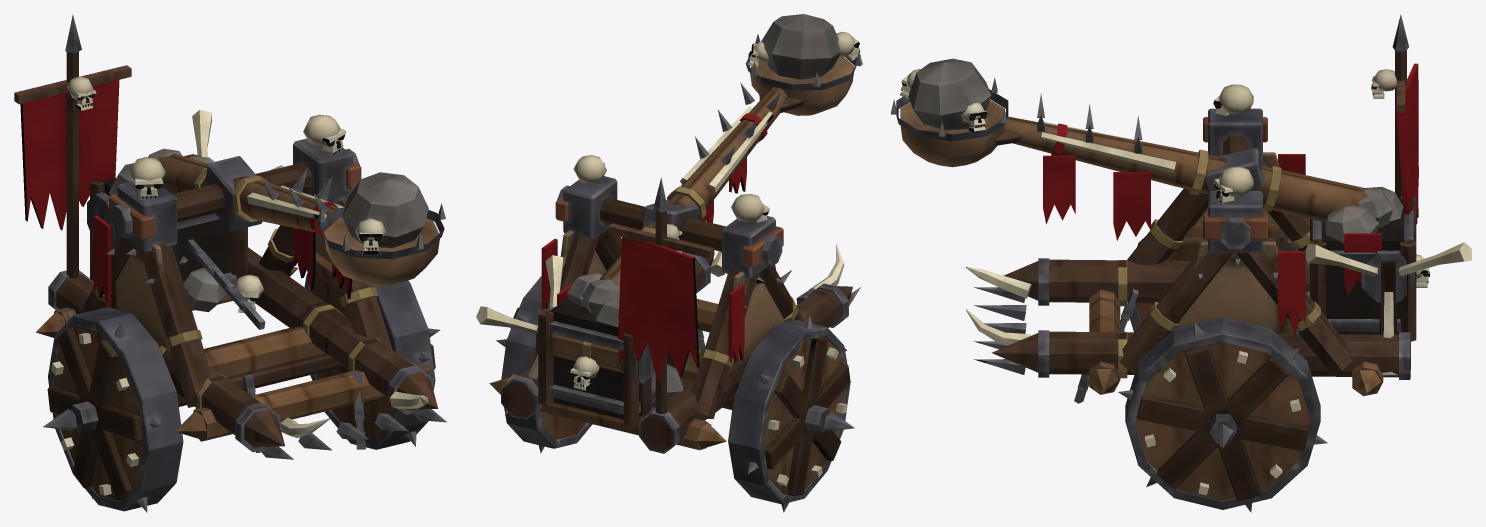
The model's file is catapult.glb.
The picture shows the model from 3 angles, left to right: view 1: azimuth 30°, elevation 25°; view 2: azimuth 150°, elevation 25°; view 3: azimuth 270°, elevation 25°; orthographic projection. The views are drawn at different scales.
Parts seen in each view (by area): view 1: Body, SiegeArm, WheelL, WheelR; view 2: Body, SiegeArm, WheelL, WheelR; view 3: Body, SiegeArm, WheelR, WheelL.
Part boxes in pixels (x1,y1,x2,y2): Body: (14, 14, 446, 459); SiegeArm: (90, 148, 445, 299); WheelL: (43, 307, 183, 512); WheelR: (304, 273, 439, 449); Body: (476, 155, 860, 453); SiegeArm: (538, 14, 862, 426); WheelL: (728, 315, 854, 512); WheelR: (496, 276, 592, 453); Body: (966, 14, 1471, 403); SiegeArm: (891, 58, 1429, 341); WheelR: (1118, 317, 1327, 512); WheelL: (1130, 236, 1298, 332).
Bounding box in the file's own units: 3.01 × 2.99 × 3.94.
Materials: 2 (2 with a texture image).
